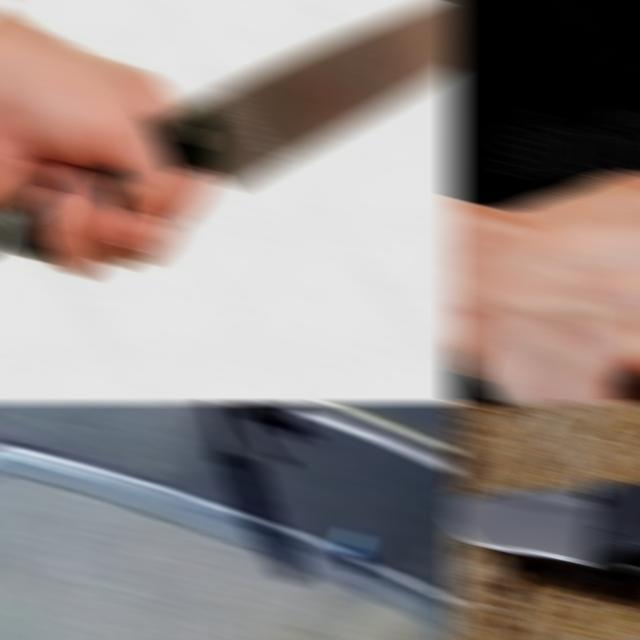Knife: (148, 0, 460, 188)
Knife_Handle: (0, 0, 460, 284), (448, 168, 640, 404)
